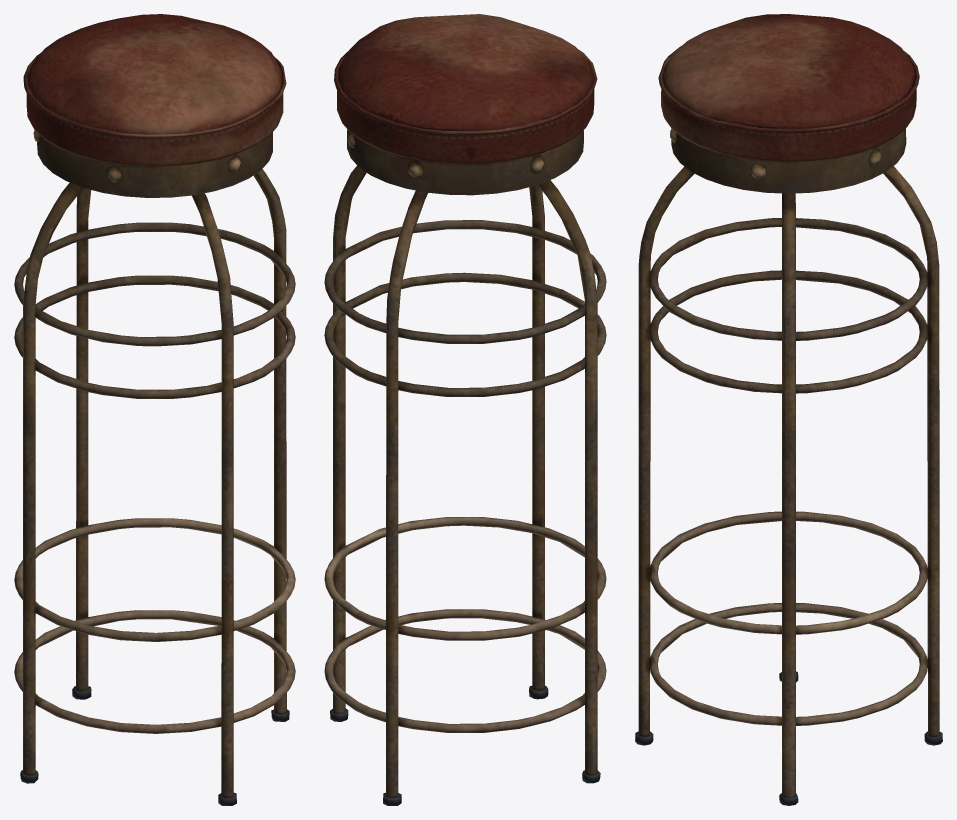
Rendered from metal_stool_01.glb.
The picture shows the model from 3 angles, left to right: view 1: azimuth 30°, elevation 25°; view 2: azimuth 150°, elevation 25°; view 3: azimuth 270°, elevation 25°; orthographic projection.
Visible parts, largest first — view 1: metal_stool_01; view 2: metal_stool_01; view 3: metal_stool_01.
Part boxes in pixels (left/top/right/bottom): metal_stool_01: left=14, top=14, right=295, bottom=805; metal_stool_01: left=324, top=14, right=606, bottom=805; metal_stool_01: left=635, top=14, right=942, bottom=805.
Bounding box in the file's own units: 0.3509 × 0.8823 × 0.3537.
1 material, 1 textured.
